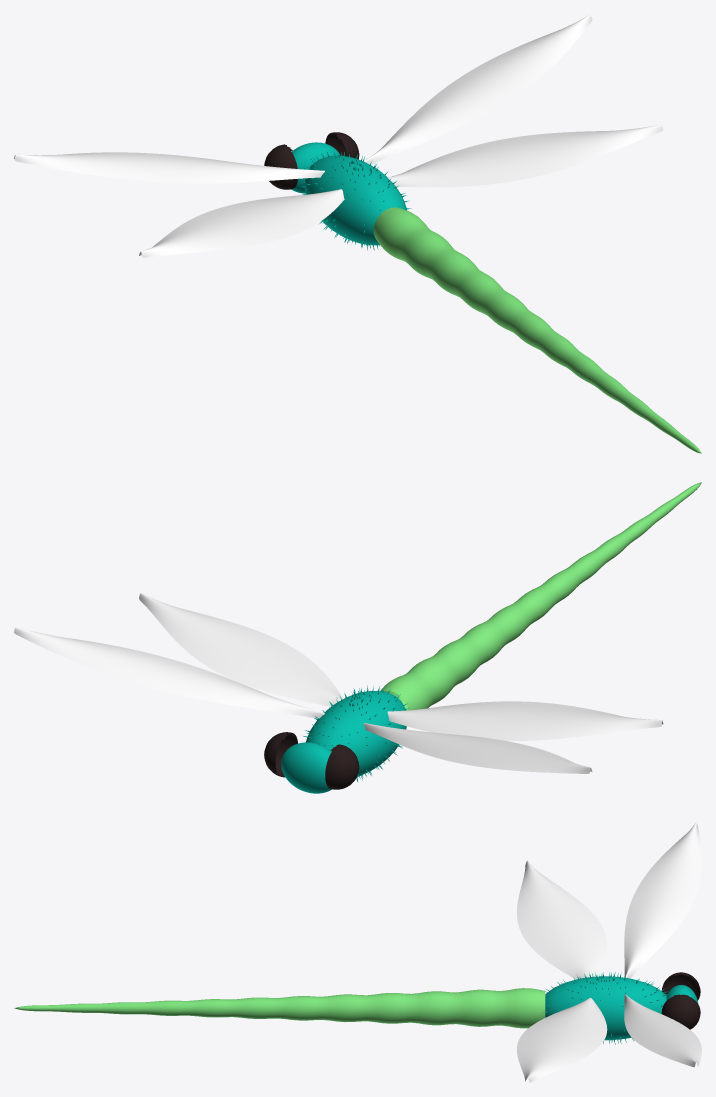
3 views of the same model, one above another, from view 1: azimuth 30°, elevation 25°; view 2: azimuth 150°, elevation 25°; view 3: azimuth 270°, elevation 25° (orthographic). The views are drawn at different scales.
Parts seen in each view (by area): view 1: abdomen, hindwing, forewing, hindwing.001, forewing.001, thorax, head, compound_eye.001; view 2: abdomen, hindwing, hindwing.001, forewing, forewing.001, thorax, head, compound_eye.001, compound_eye; view 3: abdomen, hindwing.001, forewing.001, hindwing, thorax, forewing, compound_eye, compound_eye.001.
Part boxes in pixels (x1=…): abdomen: x1=373, y1=207, x2=701, y2=453; hindwing: x1=388, y1=124, x2=663, y2=187; forewing: x1=364, y1=14, x2=592, y2=164; hindwing.001: x1=139, y1=189, x2=344, y2=257; forewing.001: x1=14, y1=152, x2=324, y2=183; thorax: x1=299, y1=151, x2=411, y2=250; head: x1=291, y1=142, x2=340, y2=193; compound_eye.001: x1=264, y1=144, x2=297, y2=189; abdomen: x1=380, y1=482, x2=701, y2=710; hindwing: x1=139, y1=593, x2=342, y2=706; hindwing.001: x1=387, y1=701, x2=663, y2=740; forewing: x1=14, y1=627, x2=324, y2=718; forewing.001: x1=363, y1=723, x2=592, y2=773; thorax: x1=303, y1=685, x2=408, y2=782; head: x1=281, y1=742, x2=331, y2=793; compound_eye.001: x1=325, y1=744, x2=359, y2=789; compound_eye: x1=264, y1=732, x2=297, y2=777; abdomen: x1=14, y1=988, x2=545, y2=1028; hindwing.001: x1=517, y1=860, x2=607, y2=979; forewing.001: x1=624, y1=822, x2=701, y2=978; hindwing: x1=517, y1=998, x2=607, y2=1082; thorax: x1=543, y1=972, x2=667, y2=1044; forewing: x1=624, y1=994, x2=701, y2=1067; compound_eye: x1=661, y1=994, x2=700, y2=1029; compound_eye.001: x1=662, y1=972, x2=700, y2=1000.
Bounding box in the file's own units: 10.24 × 1.97 × 12.35.
